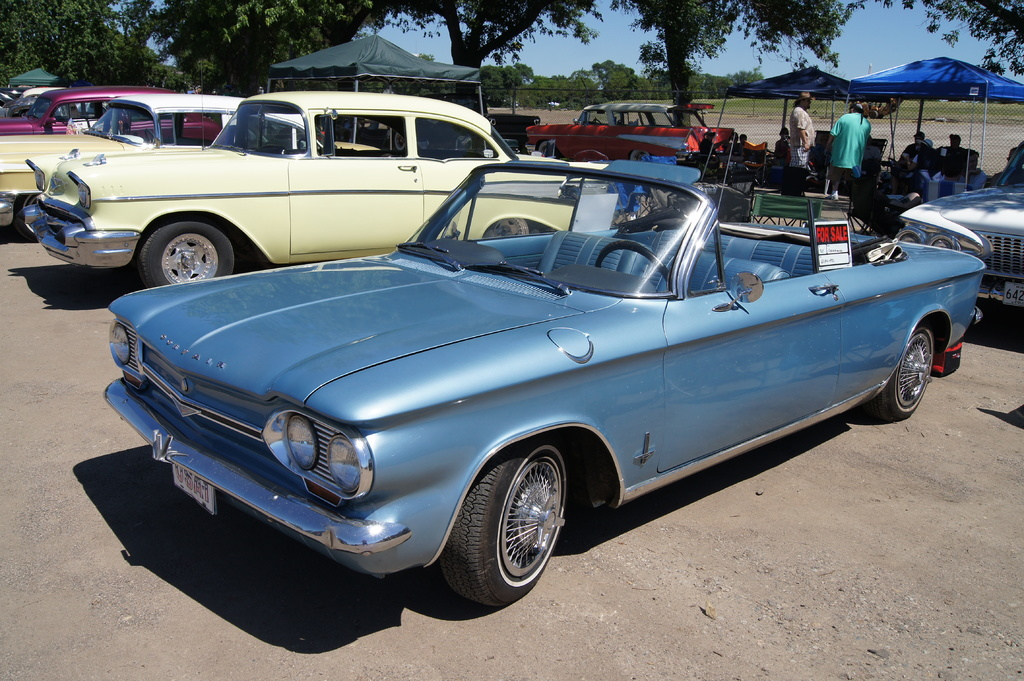Car: (88, 157, 939, 609), (0, 59, 609, 289), (894, 144, 1023, 310), (525, 104, 740, 163), (387, 92, 540, 151)
